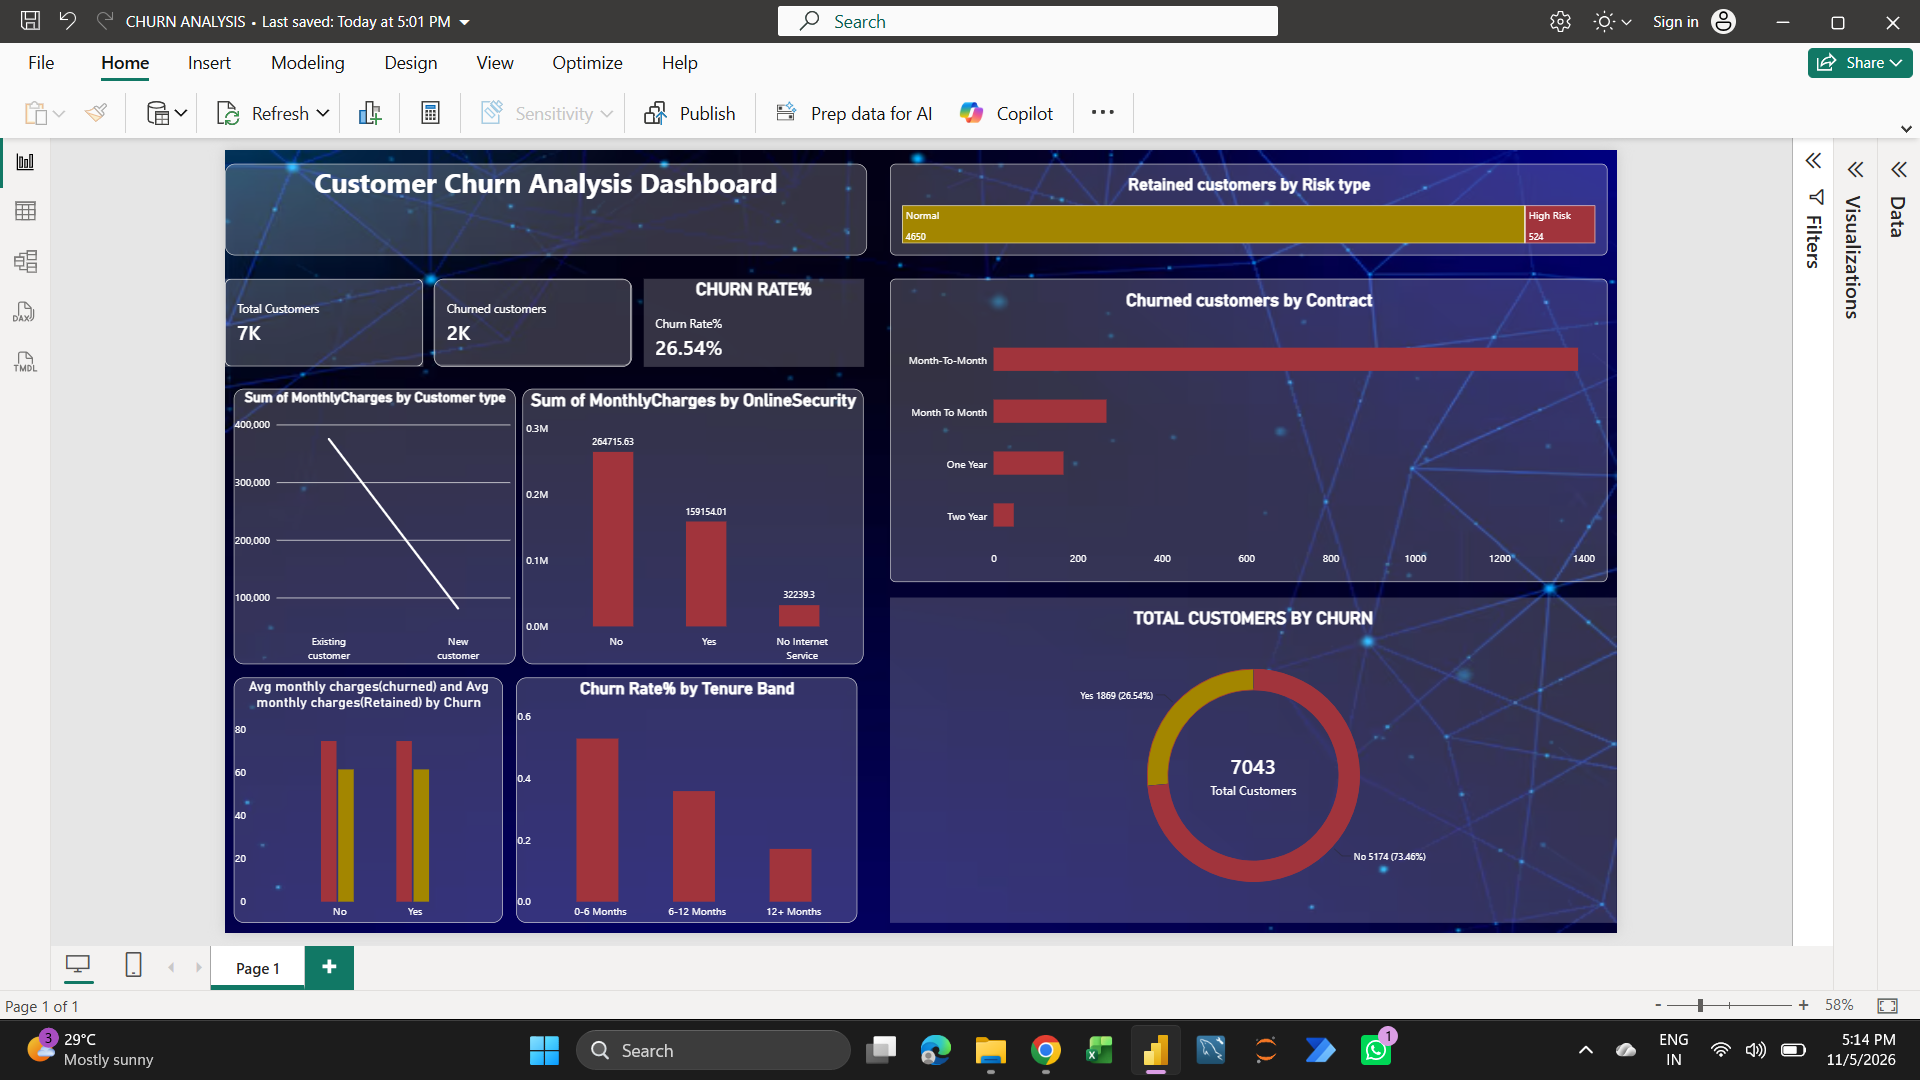

What the dashboard file says about the page in this screenshot:
{"tool":"powerbi","page":{"name":"Page 1","canvas":[1920,1080],"ordinal":0},"visuals":[{"type":"textbox","box":[0,18.6,885.8,126.5],"z":0},{"type":"treemap","fields":{"Group":["telco_churn_unclean.Risk type"],"Values":["Calculated Measure.Retained customers"]},"box":[917.4,18.6,990,126.5],"z":1000},{"type":"textbox","box":[0,374.5,274,150],"z":2000},{"type":"donutChart","title":"TOTAL CUSTOMERS BY CHURN","fields":{"Category":["telco_churn_unclean.Churn"],"Y":["Calculated Measure.Total Customers"]},"box":[917.5,617.1,1002.6,448.8],"z":3000},{"type":"barChart","fields":{"Category":["telco_churn_unclean.Contract"],"Y":["Calculated Measure.Churned customers"]},"box":[917.5,177.3,989.9,418],"z":4000},{"type":"columnChart","fields":{"Category":["telco_churn_unclean.OnlineSecurity"],"Y":["Sum(telco_churn_unclean.MonthlyCharges)"]},"box":[410.8,329.4,470.5,380],"z":5000},{"type":"columnChart","fields":{"Category":["telco_churn_unclean.Tenure Band"],"Y":["Calculated Measure.Churn Rate%"]},"box":[401.7,727.5,470.5,338.4],"z":6000},{"type":"clusteredColumnChart","fields":{"Category":["telco_churn_unclean.Churn"],"Y":["Calculated Measure.Avg monthly charges(churned)","Calculated Measure.Avg monthly charges(Retained)"]},"box":[12.7,727.5,371,338.4],"z":7000},{"type":"lineChart","fields":{"Category":["telco_churn_unclean.Customer type"],"Y":["Sum(telco_churn_unclean.MonthlyCharges)"]},"box":[12.7,329.4,389.1,380],"z":8000},{"type":"cardVisual","fields":{"Data":["Calculated Measure.Total Customers"]},"box":[0,177.3,273.3,121.2],"z":9000},{"type":"cardVisual","fields":{"Data":["Calculated Measure.Churned customers"]},"box":[287.7,177.3,273.3,121.2],"z":10000},{"type":"cardVisual","title":"CHURN RATE%","fields":{"Data":["Calculated Measure.Churn Rate%"]},"box":[577.3,177.3,304,121.2],"z":11000}]}

Visuals, with their boxes on the page's 1920x1080 design canvas (x1, y1, x2, y2). These are canvas units, not pixel positions in the 1920x1080 screenshot, which may show the page scaled, cropped or inside an application window:
textbox: (0, 19, 886, 145)
treemap - telco_churn_unclean.Risk type x Calculated Measure.Retained customers: (917, 19, 1907, 145)
textbox: (0, 374, 274, 524)
"TOTAL CUSTOMERS BY CHURN" donutChart: (918, 617, 1920, 1066)
barChart - telco_churn_unclean.Contract x Calculated Measure.Churned customers: (918, 177, 1907, 595)
columnChart - telco_churn_unclean.OnlineSecurity x Sum(telco_churn_unclean.MonthlyCharges): (411, 329, 881, 709)
columnChart - telco_churn_unclean.Tenure Band x Calculated Measure.Churn Rate%: (402, 728, 872, 1066)
clusteredColumnChart - telco_churn_unclean.Churn x Calculated Measure.Avg monthly charges(churned): (13, 728, 384, 1066)
lineChart - telco_churn_unclean.Customer type x Sum(telco_churn_unclean.MonthlyCharges): (13, 329, 402, 709)
cardVisual - Calculated Measure.Total Customers: (0, 177, 273, 298)
cardVisual - Calculated Measure.Churned customers: (288, 177, 561, 298)
"CHURN RATE%" cardVisual: (577, 177, 881, 298)
